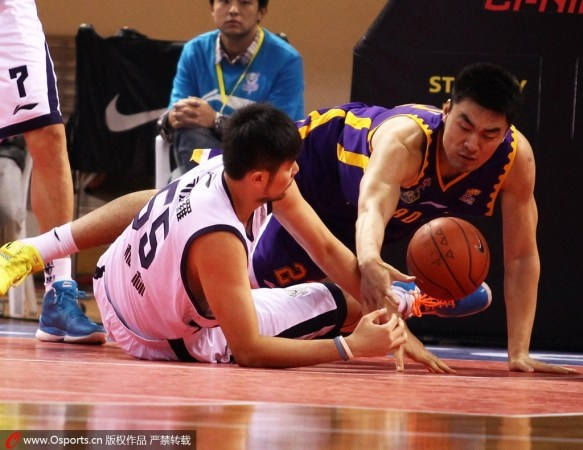falling: (61, 105, 399, 377)
